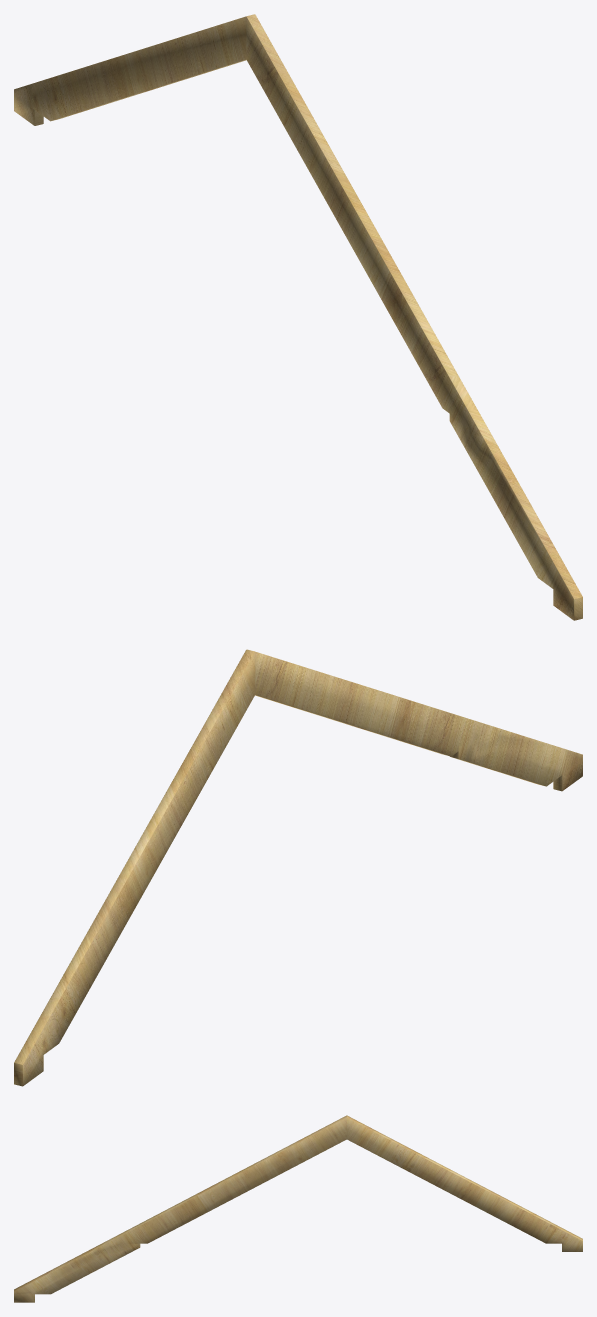
3 views of the same model, one above another, from view 1: azimuth 30°, elevation 25°; view 2: azimuth 150°, elevation 25°; view 3: azimuth 270°, elevation 25° (orthographic). The views are drawn at different scales.
Visible parts, largest first — view 1: 5roof_bulk_0; view 2: 5roof_bulk_0; view 3: 5roof_bulk_0.
Part boxes in pixels (x1,y1,x2,y2): 5roof_bulk_0: (14, 14, 582, 620); 5roof_bulk_0: (14, 649, 582, 1086); 5roof_bulk_0: (14, 1115, 582, 1302).
Size of the model in its own units: 0.05 by 1.94 by 5.4.
1 material, 1 textured.
